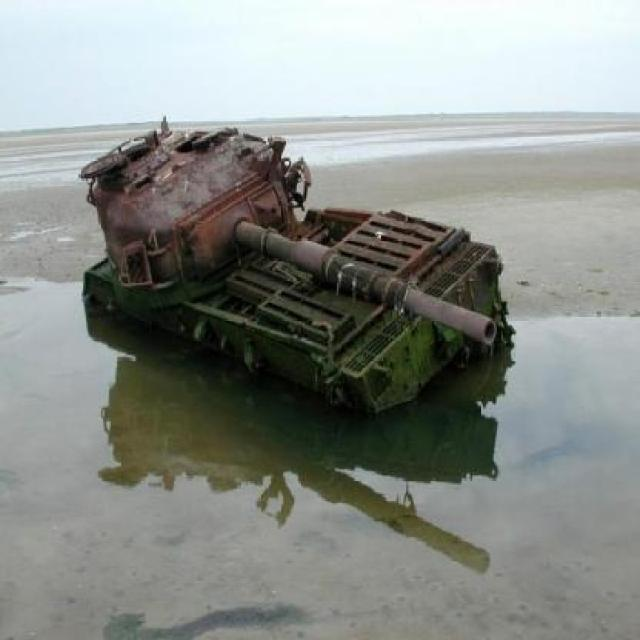corrosion: (80, 118, 514, 422)
